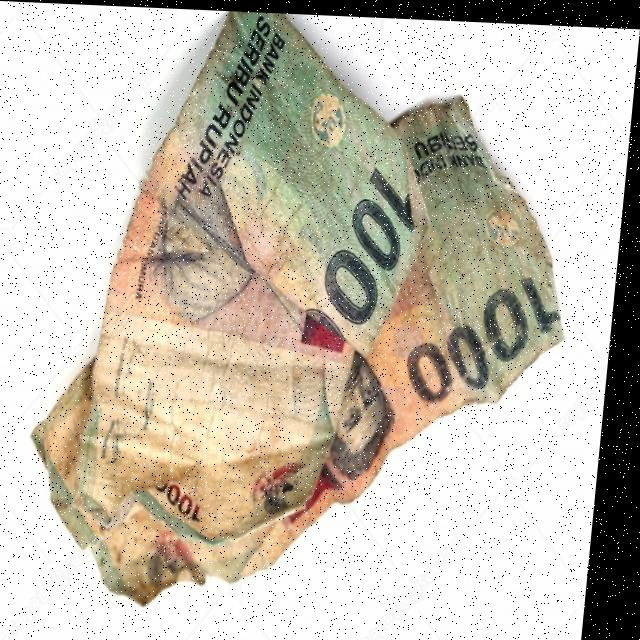1000IndonesianRupiah: (81, 4, 434, 525)
